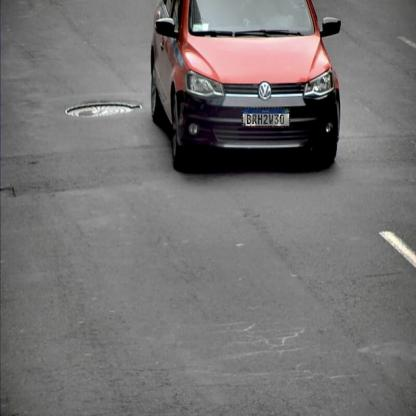PlacaM: (242, 108, 290, 127)
